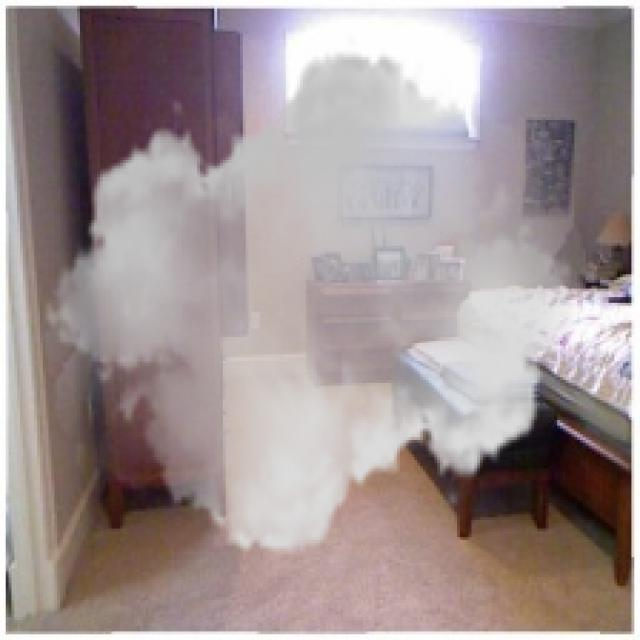smoke: (43, 32, 586, 574)
